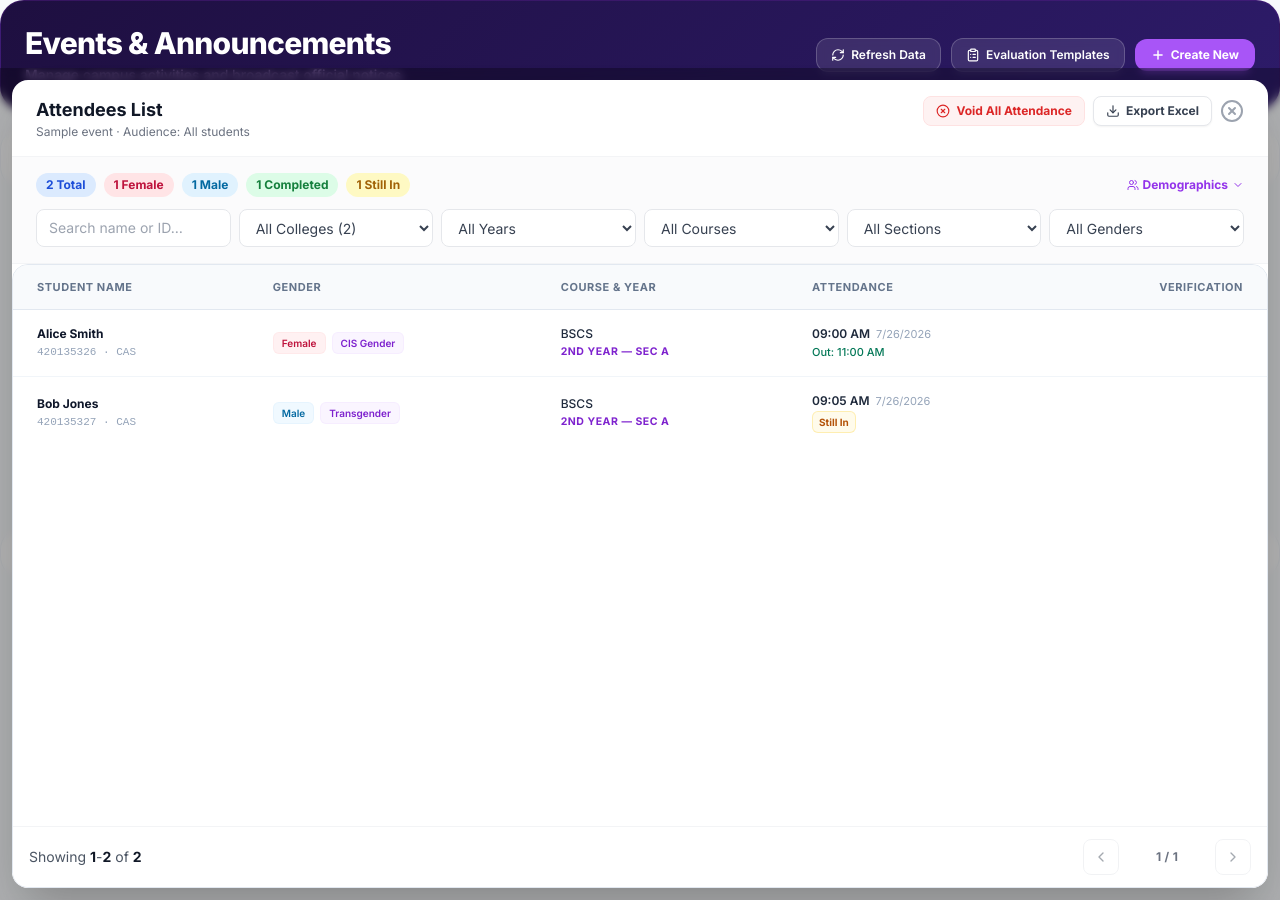
CareStaffEventsPage reschedule & void UI › toggles demographics panel and filters attendees by gender in attendees modal
The image size is (1280, 900).
Expected: the text "Sex Assigned at Birth" is not shown
Click the button "Demographics". click: (1185, 185)
box: x1=1126 y1=177 x2=1244 y2=193
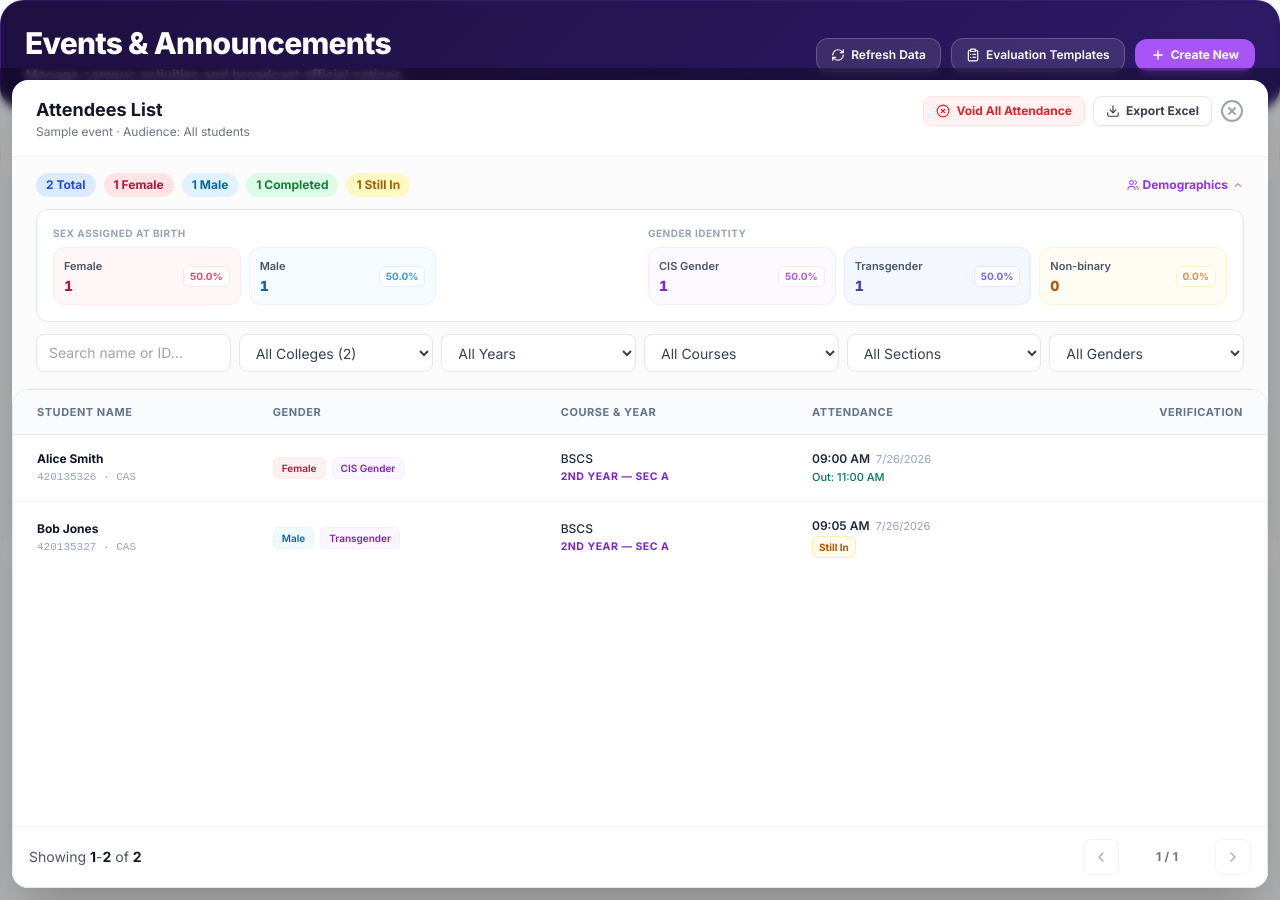
Expected: the text "Alice Smith" is shown, x1=37 y1=451 x2=104 y2=466
Expected: the text "Sex Assigned at Birth" is shown, x1=53 y1=227 x2=186 y2=239
Select "Female (1)" in the dropdown showing "All Genders". click: (1147, 353)
box: x1=1049 y1=334 x2=1244 y2=372
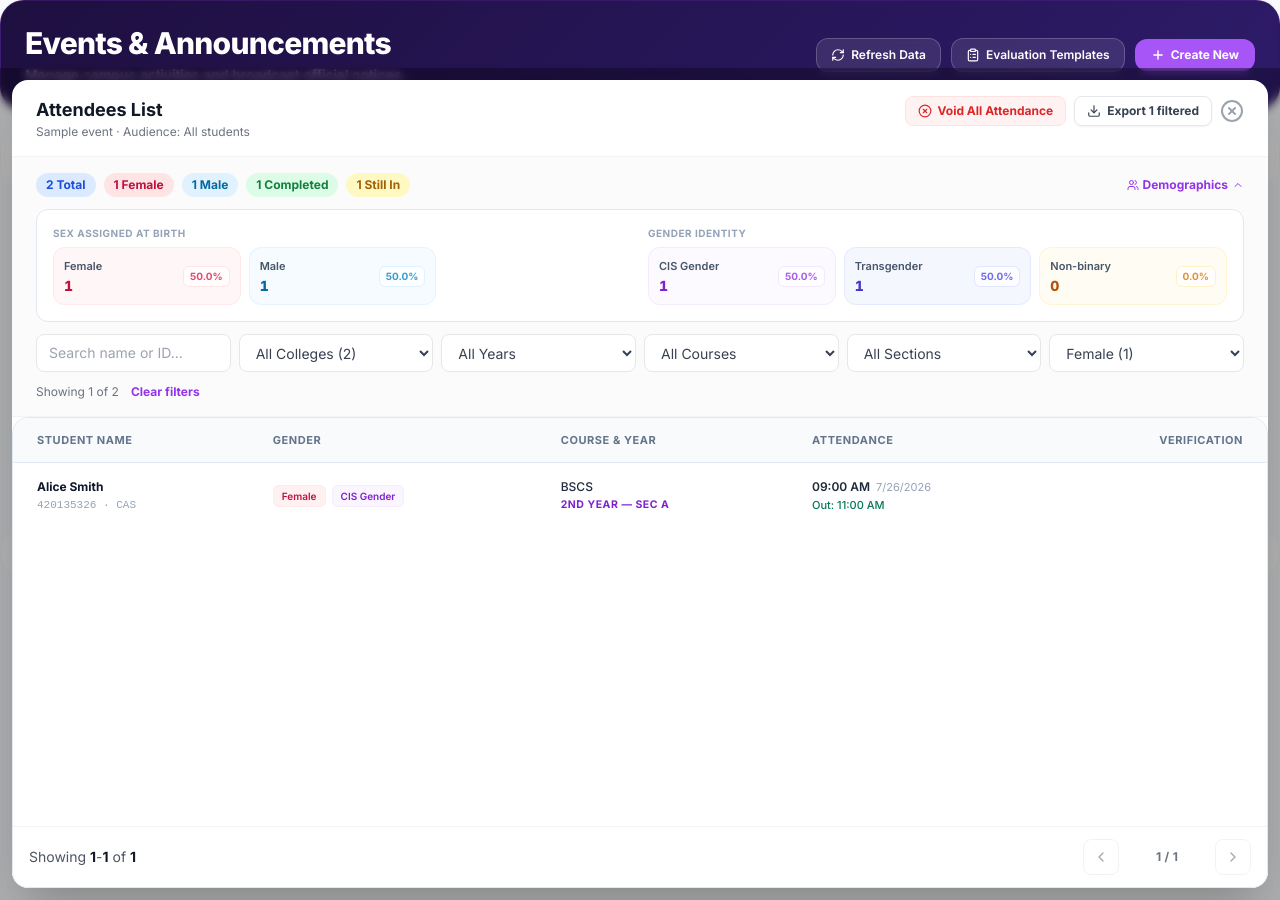
Expected: the text "Alice Smith" is shown, x1=37 y1=479 x2=104 y2=494
Expected: the text "Bob Jones" is gone
